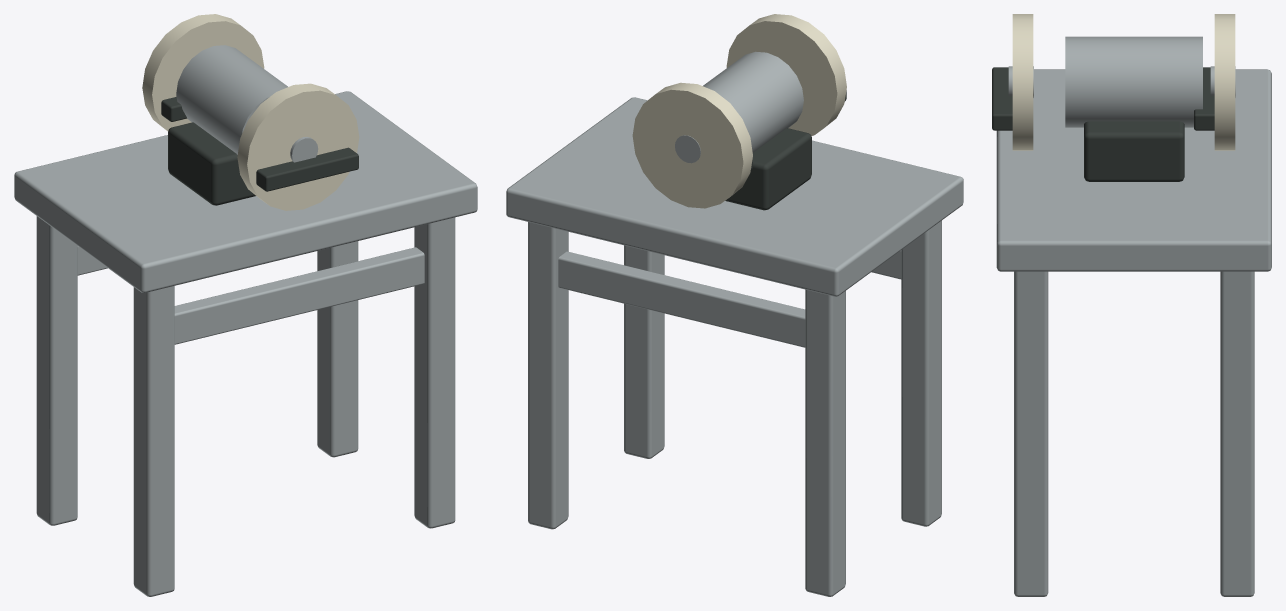
File: salvage-and-repair-workshop-bench-grinding-station-b4ce5493__25446.glb
The picture shows the model from 3 angles, left to right: view 1: azimuth 30°, elevation 25°; view 2: azimuth 150°, elevation 25°; view 3: azimuth 270°, elevation 25°; orthographic projection. The views are drawn at different scales.
Visible parts, largest first — view 1: bench-grinding-station; view 2: bench-grinding-station; view 3: bench-grinding-station.
Part boxes in pixels (left/top/right/bottom): bench-grinding-station: left=14, top=14, right=477, bottom=596; bench-grinding-station: left=506, top=14, right=963, bottom=596; bench-grinding-station: left=992, top=14, right=1271, bottom=596.
Size of the model in its own units: 0.9 by 1.2 by 0.61.
